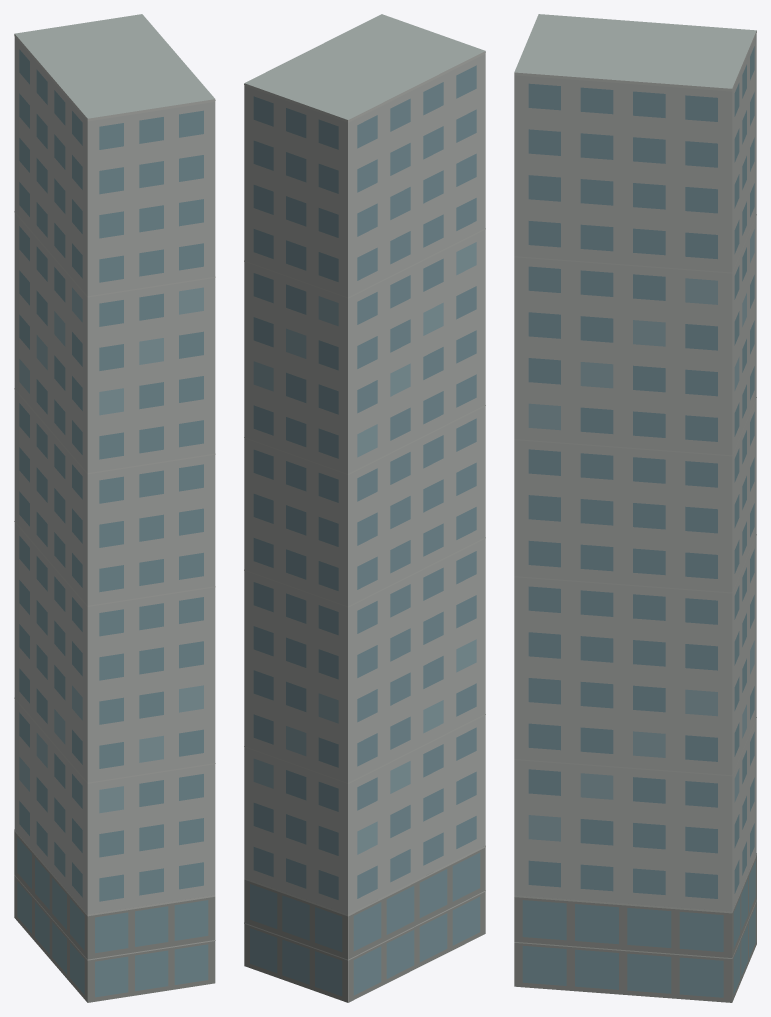
File: residential-588918a4-9b7e-460d-aa97-f82ede2b4a16.glb
3 views of the same model, side by side, from view 1: azimuth 30°, elevation 25°; view 2: azimuth 150°, elevation 25°; view 3: azimuth 270°, elevation 25° (orthographic). The views are drawn at different scales.
Visible parts, largest first — view 1: residential-588918a4-9b7e-460d-aa97-f82ede2b4a16.tmp; view 2: residential-588918a4-9b7e-460d-aa97-f82ede2b4a16.tmp; view 3: residential-588918a4-9b7e-460d-aa97-f82ede2b4a16.tmp.
Boxes of the visible parts, box(x1,y1,x2,y2) form: residential-588918a4-9b7e-460d-aa97-f82ede2b4a16.tmp: box(14, 14, 215, 1002); residential-588918a4-9b7e-460d-aa97-f82ede2b4a16.tmp: box(244, 14, 485, 1002); residential-588918a4-9b7e-460d-aa97-f82ede2b4a16.tmp: box(514, 14, 756, 1002).
Bounding box in the file's own units: 14.07 × 80 × 19.26.
